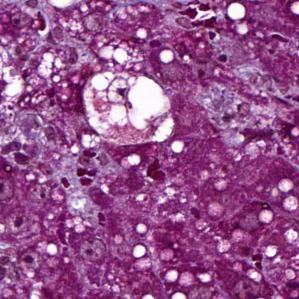ballooning: (82, 68, 175, 149)
